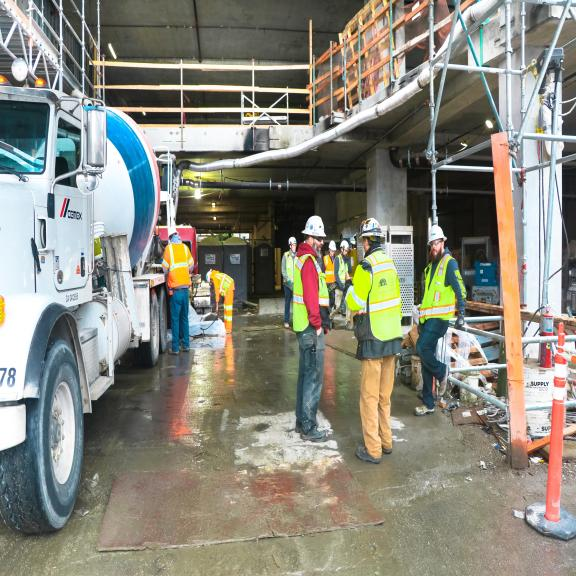safety_vest: (352, 251, 405, 348), (292, 250, 332, 339), (421, 258, 457, 326), (160, 238, 193, 290), (283, 250, 300, 288), (333, 253, 350, 287), (213, 268, 234, 294), (322, 254, 338, 287)
